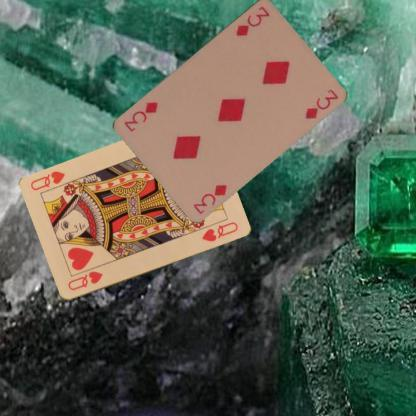3d: (232, 3, 271, 37), (190, 182, 228, 216)
Qh: (65, 269, 104, 292)
